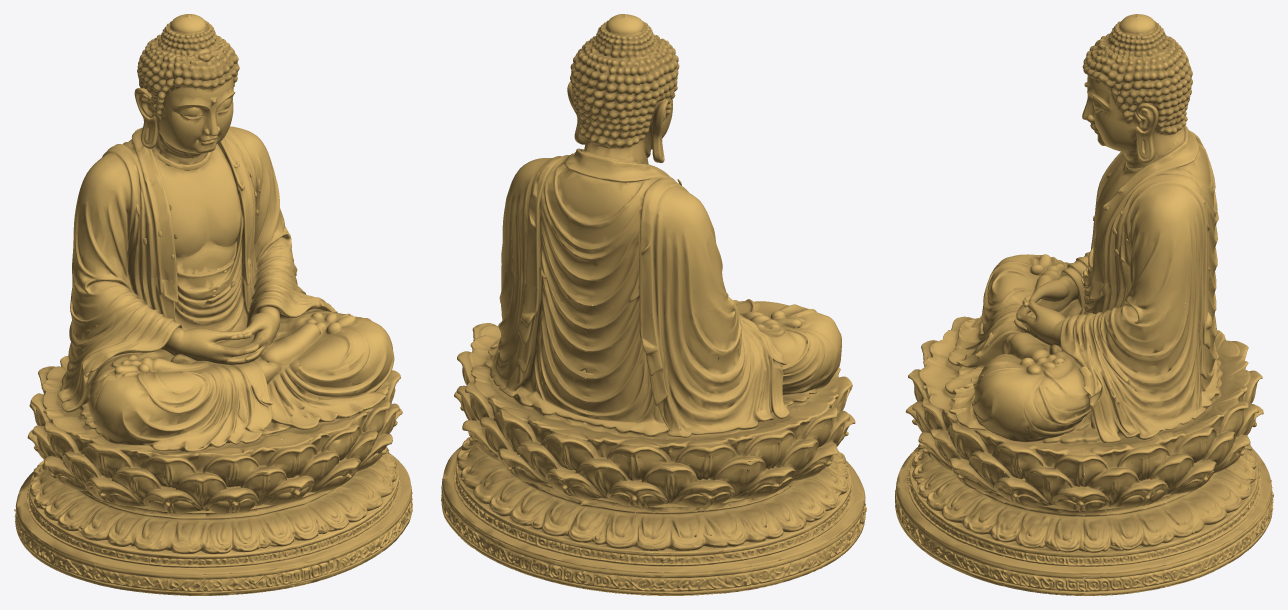
Rendered from amida_hitem3d_eighth.glb.
3 views of the same model, side by side, from view 1: azimuth 30°, elevation 25°; view 2: azimuth 150°, elevation 25°; view 3: azimuth 270°, elevation 25° (orthographic). The views are drawn at different scales.
Visible parts, largest first — view 1: world; view 2: world; view 3: world.
Part boxes in pixels (x1,y1,x2,y2): world: (14,14,412,595); world: (441,14,866,595); world: (895,14,1273,595).
Bounding box in the file's own units: 0.7652 × 1 × 0.6955.
1 material, 1 textured.
